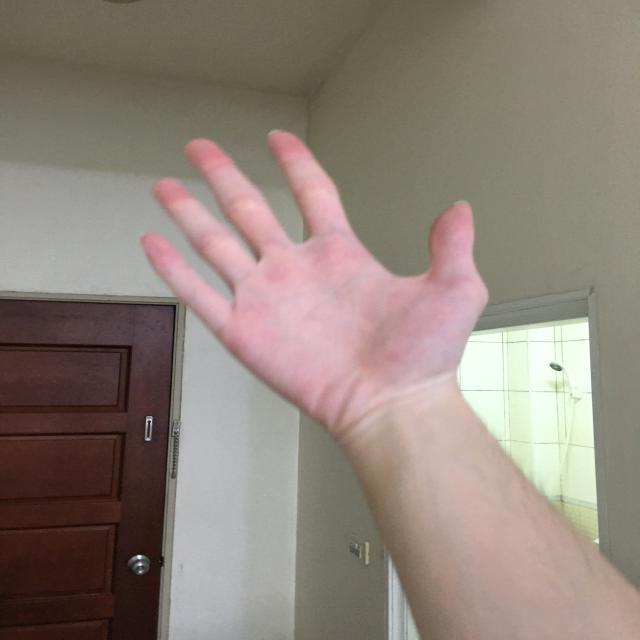hand: (124, 115, 506, 438)
